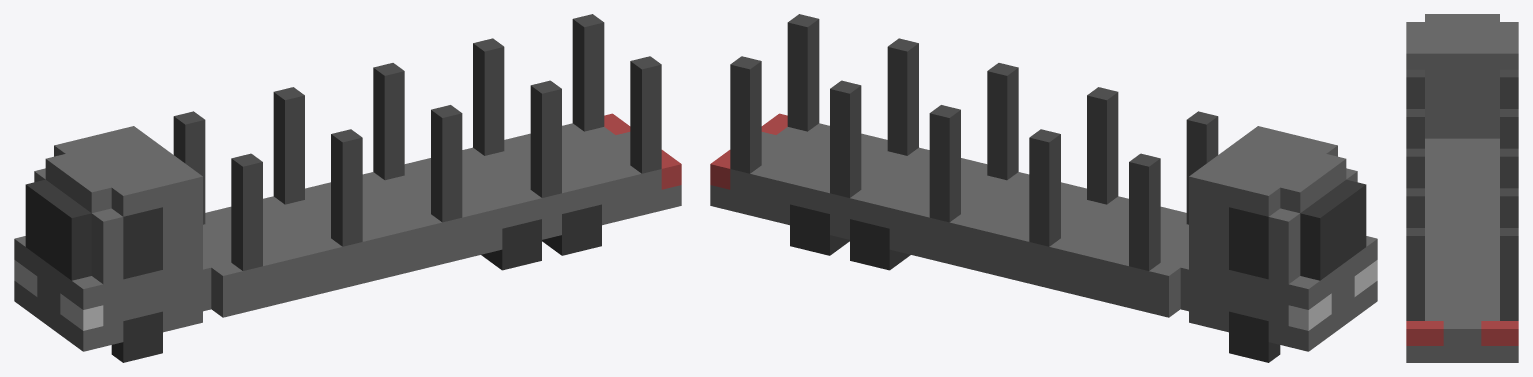
File: truck-v5-grey.gltf
The picture shows the model from 3 angles, left to right: view 1: azimuth 30°, elevation 25°; view 2: azimuth 150°, elevation 25°; view 3: azimuth 270°, elevation 25°; orthographic projection. The views are drawn at different scales.
Visible parts, largest first — view 1: model, wheels; view 2: model, wheels; view 3: model.
Boxes of the visible parts, left/top/right/bottom form: model: left=14, top=14, right=681, bottom=351; wheels: left=111, top=204, right=601, bottom=362; model: left=710, top=14, right=1377, bottom=351; wheels: left=790, top=204, right=1280, bottom=362; model: left=1406, top=14, right=1518, bottom=362.
Size of the model in its own units: 3 by 0.8 by 0.6.
2 materials, 2 textured.
